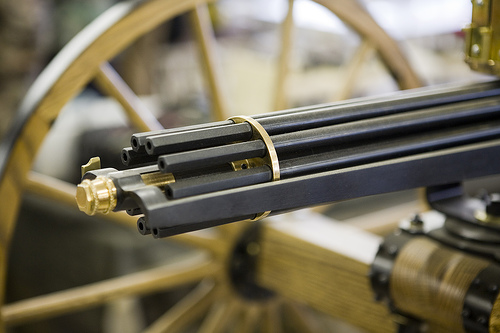rifle: (60, 54, 490, 259)
